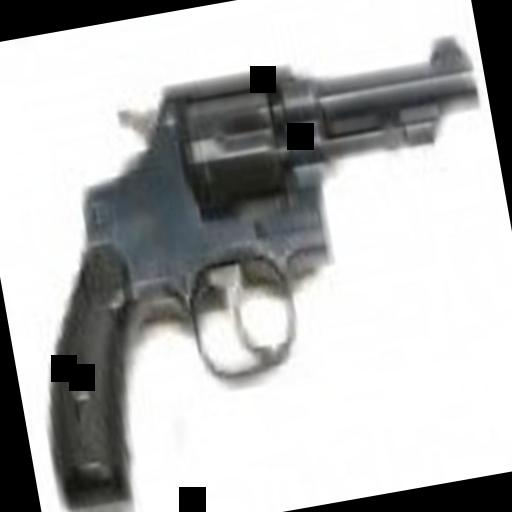Handgun: (0, 19, 512, 512)
